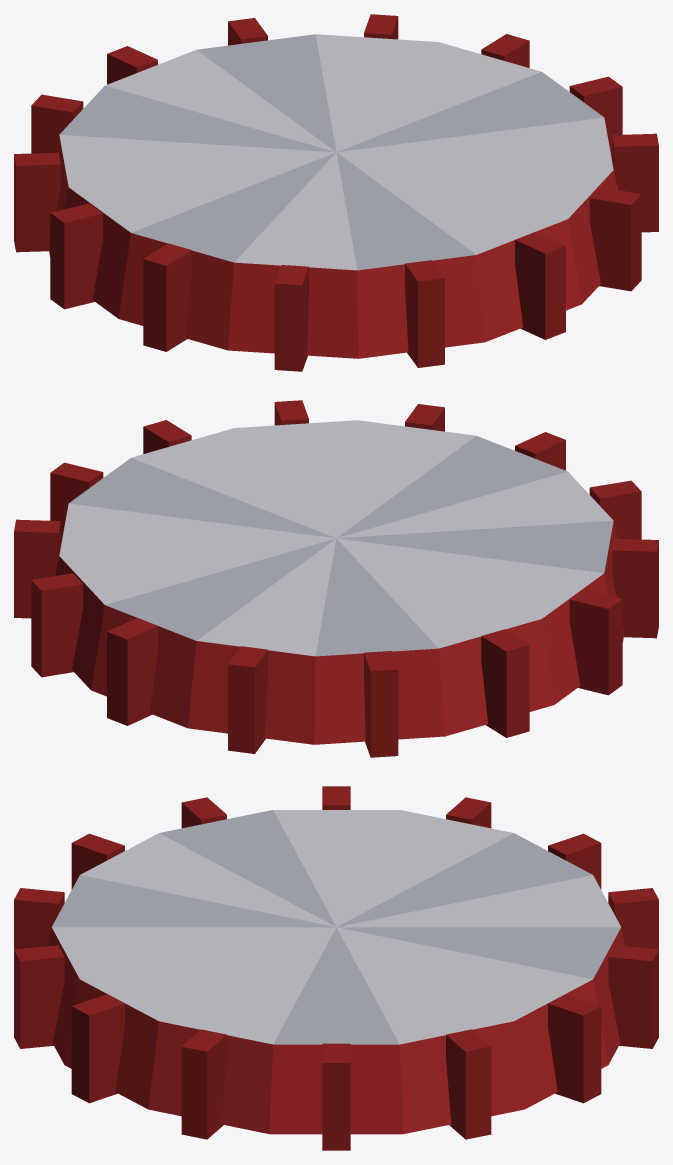
The model's file is food-cap.glb.
3 views of the same model, one above another, from view 1: azimuth 30°, elevation 25°; view 2: azimuth 150°, elevation 25°; view 3: azimuth 270°, elevation 25° (orthographic).
Bounding box in the file's own units: 2.3 × 0.34 × 2.26.
